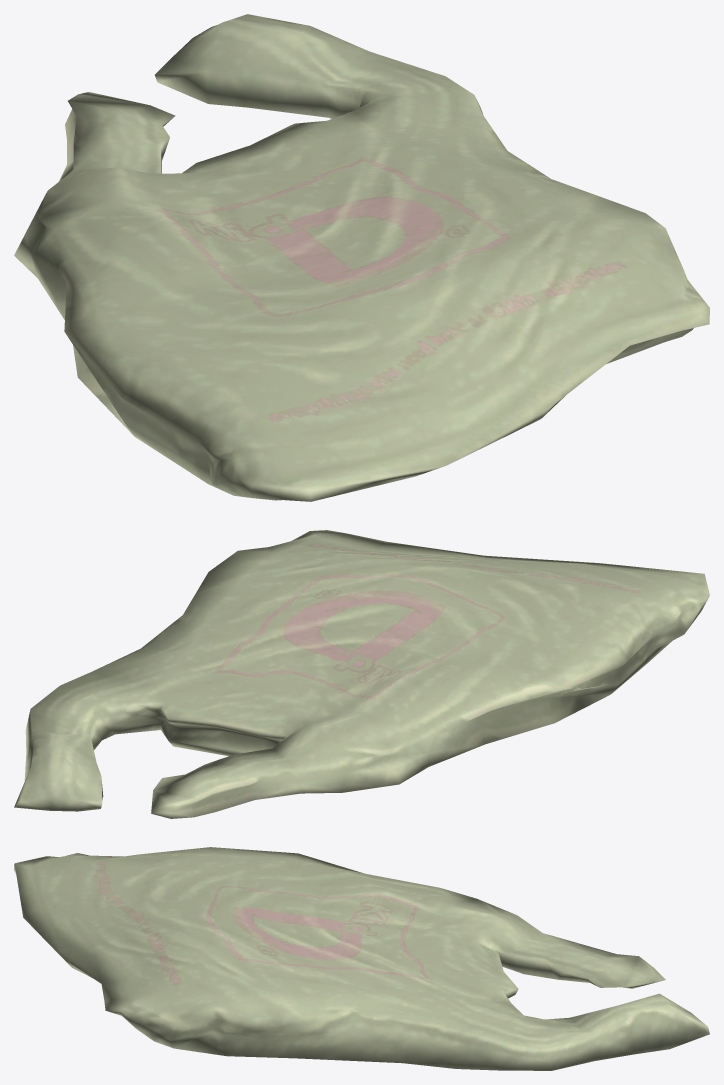
File: trashPlasticBag05.FBX
3 views of the same model, one above another, from view 1: azimuth 30°, elevation 25°; view 2: azimuth 150°, elevation 25°; view 3: azimuth 270°, elevation 25° (orthographic). The views are drawn at different scales.
Parts seen in each view (by area): view 1: SM_TrashPlasticBag05; view 2: SM_TrashPlasticBag05; view 3: SM_TrashPlasticBag05.
Part boxes in pixels (left/top/right/bottom): SM_TrashPlasticBag05: left=14, top=14, right=709, bottom=501; SM_TrashPlasticBag05: left=14, top=530, right=709, bottom=818; SM_TrashPlasticBag05: left=14, top=847, right=709, bottom=1070.
Bounding box in the file's own units: 28.14 × 4.84 × 44.38.
Materials: 1 (1 with a texture image).
